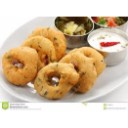vada: (61, 52, 96, 92), (2, 47, 38, 84), (36, 66, 76, 97), (33, 27, 65, 62), (75, 46, 104, 78), (22, 38, 53, 66)
